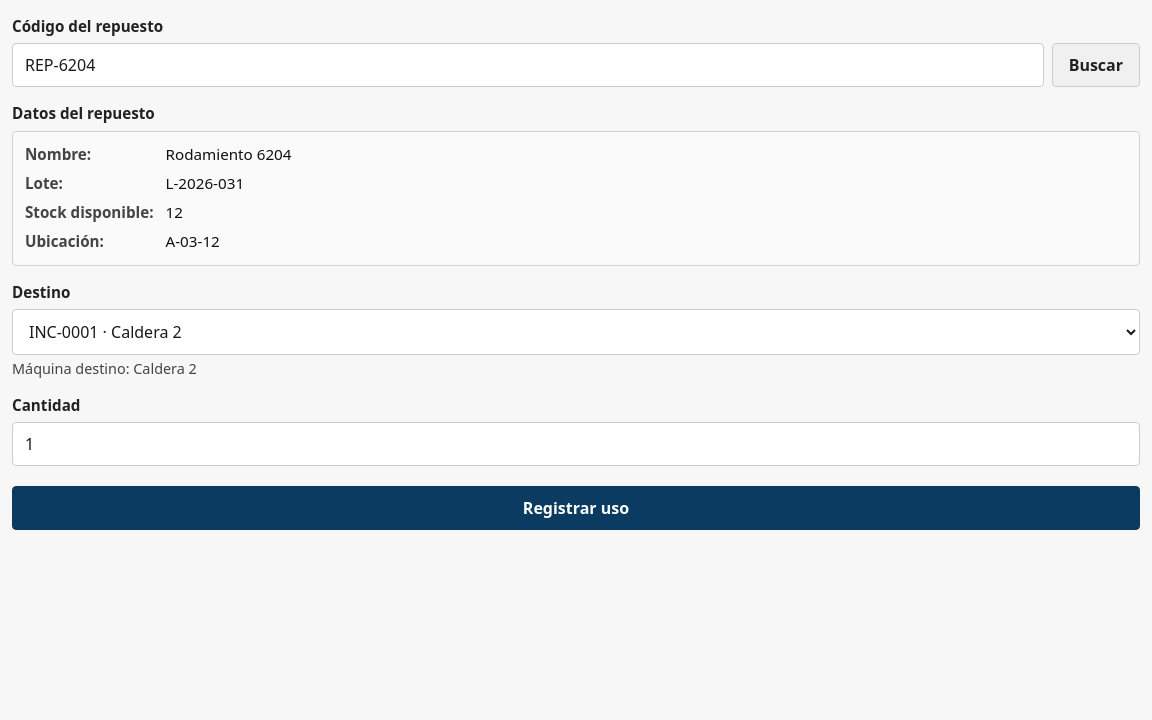
Test: Registrar uso de repuesto › no muestra el aviso si el stock queda por encima del mínimo
The image size is (1152, 720).
Expected: the text "Rodamiento 6204" is shown, [166, 144, 291, 164]
Replace the text in the number field labelled "Cantidad" with "3" at [576, 444], box [12, 422, 1140, 466]
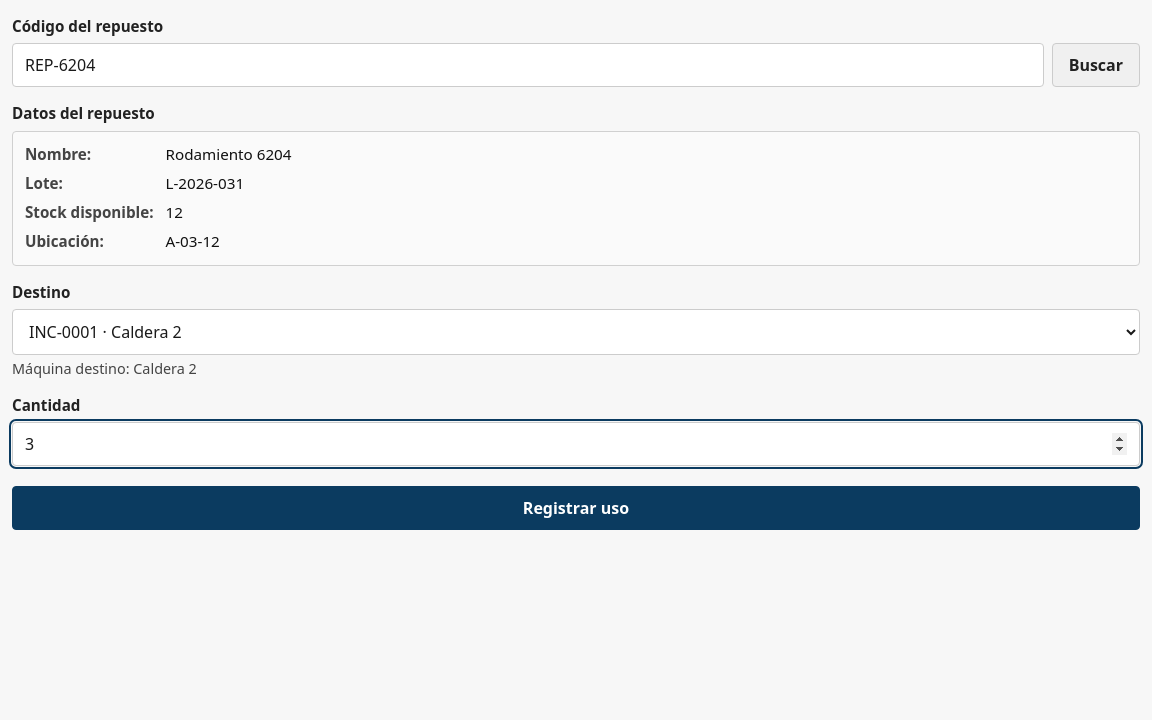
Click the button "Registrar uso".
click(576, 508)  # box [12, 486, 1140, 530]
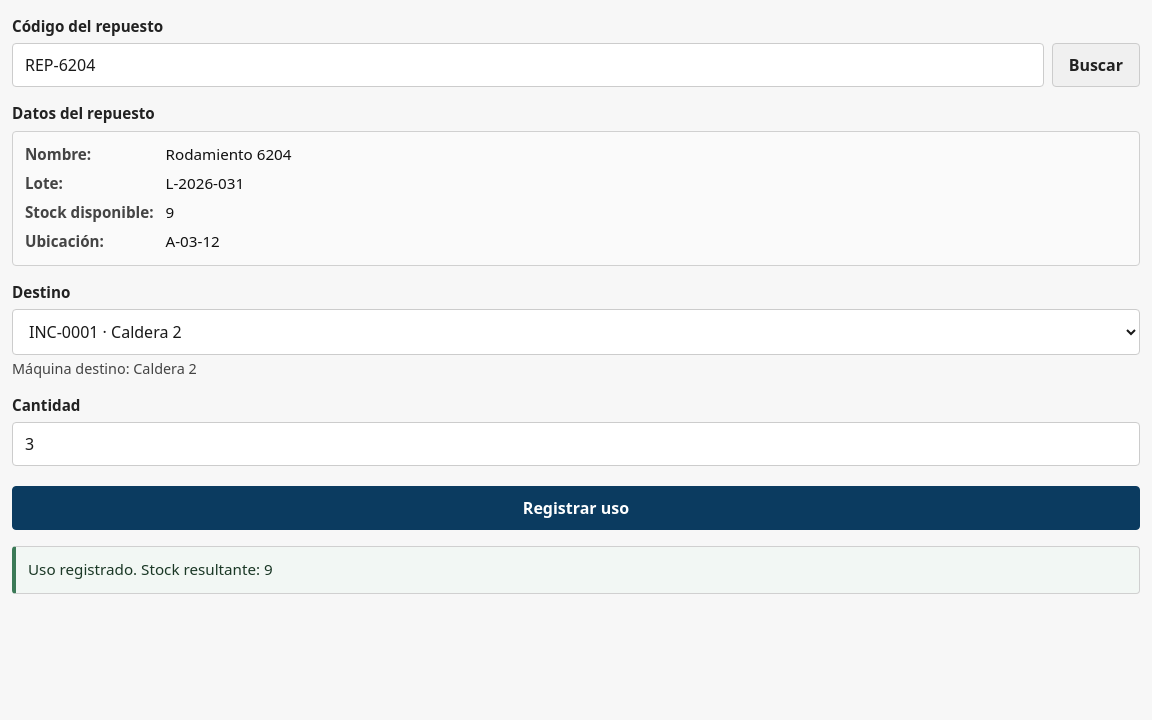
Now the text "Uso registrado. Stock resultante: 9" is shown, box [12, 546, 1140, 594]
